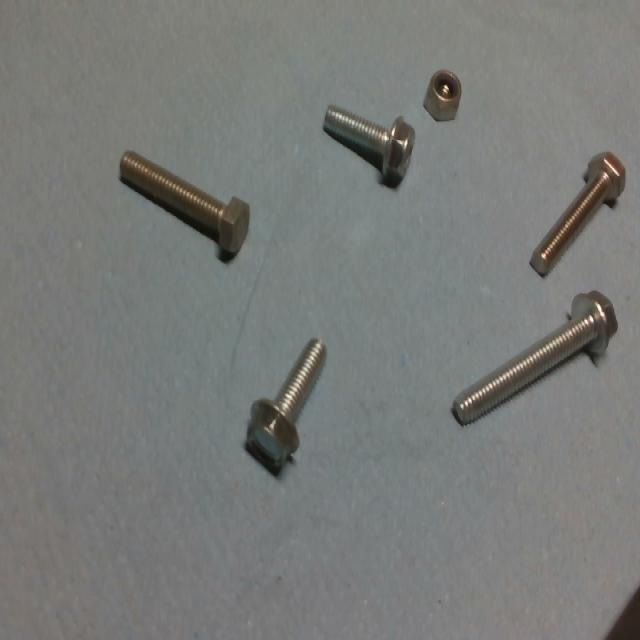Bolt: (439, 286, 619, 441), (113, 142, 254, 257), (527, 144, 628, 283), (242, 330, 334, 465), (317, 100, 426, 193)
Nut: (421, 72, 472, 130)
